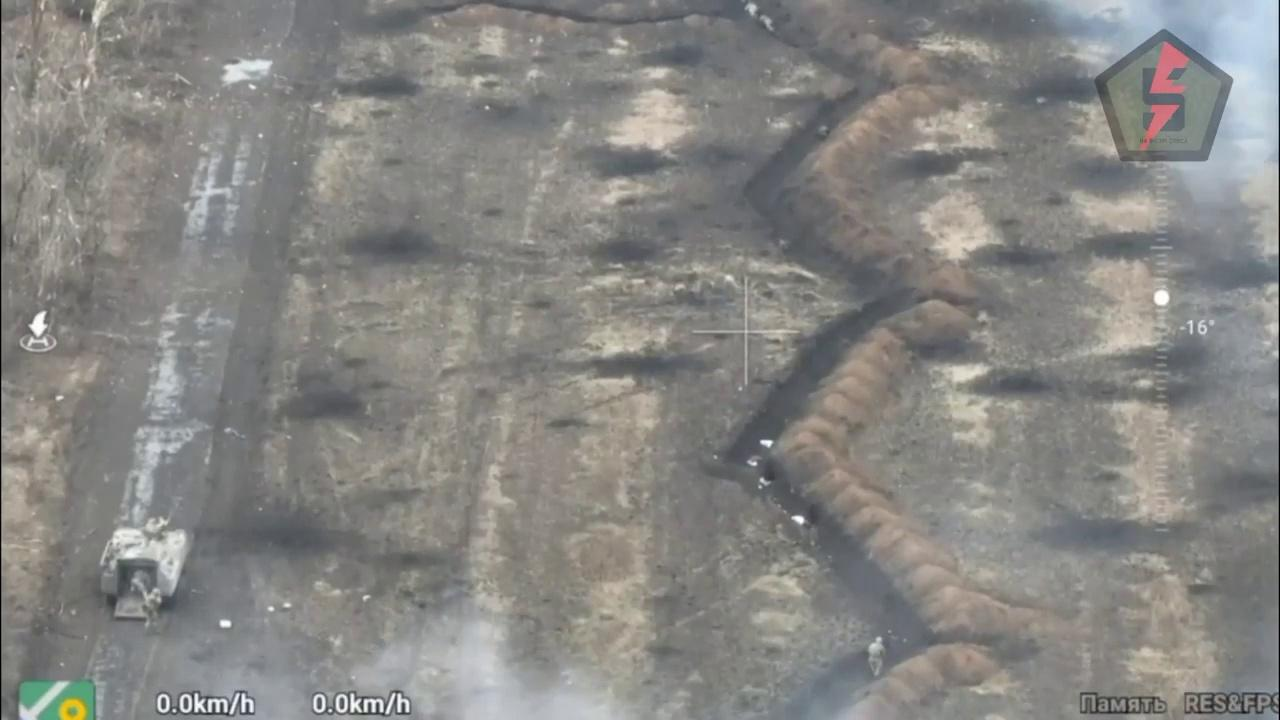person: (142, 586, 160, 635), (865, 637, 887, 675), (758, 12, 776, 32), (745, 1, 759, 20), (818, 122, 828, 138)
trench: (735, 3, 987, 720)
vehicle: (100, 511, 189, 616)
